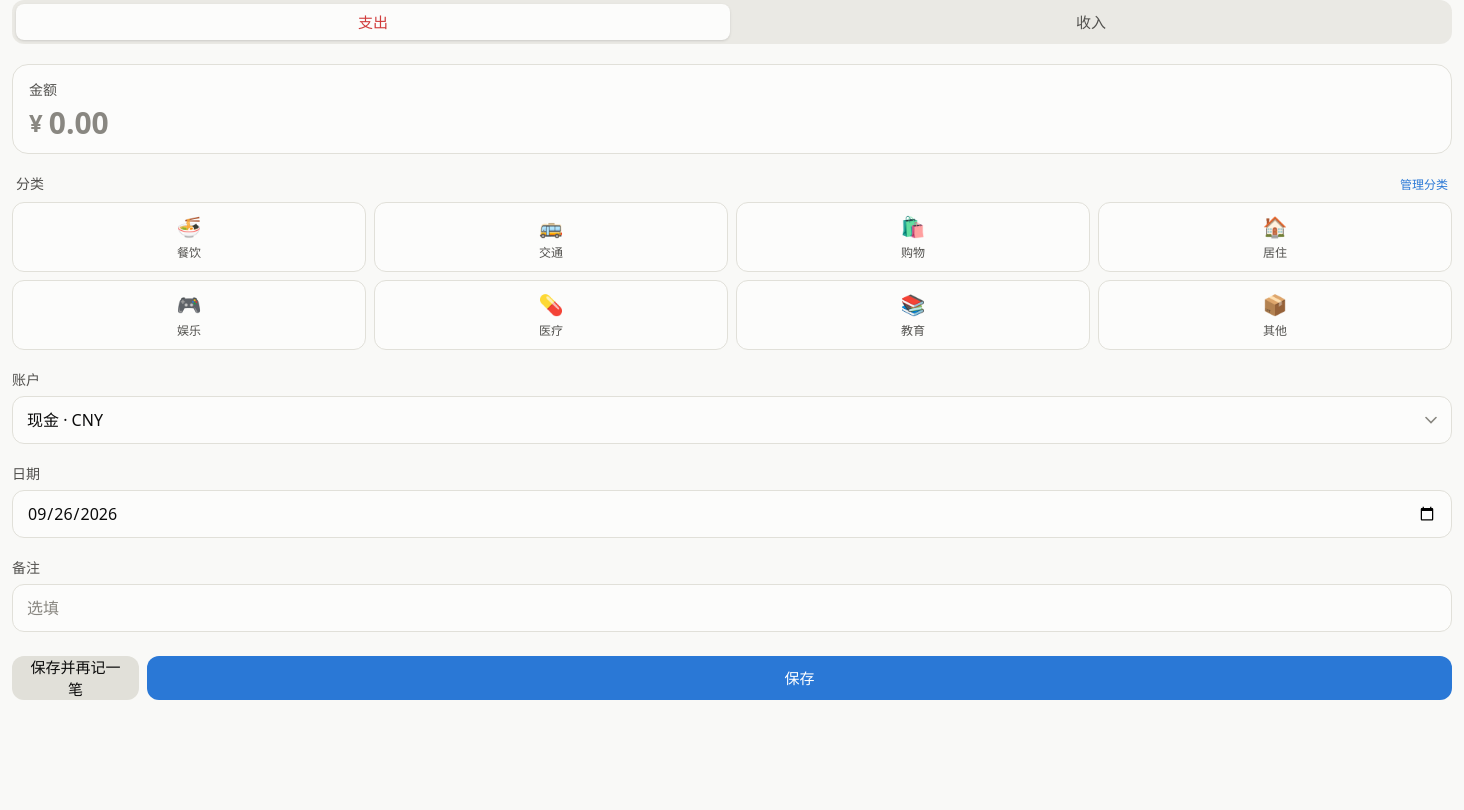
记一笔 › 金额格式非法时提示，失焦即校验
Type "1.234" into the field with id "tx-amount" at (742, 123), box [49,105,1435,141]
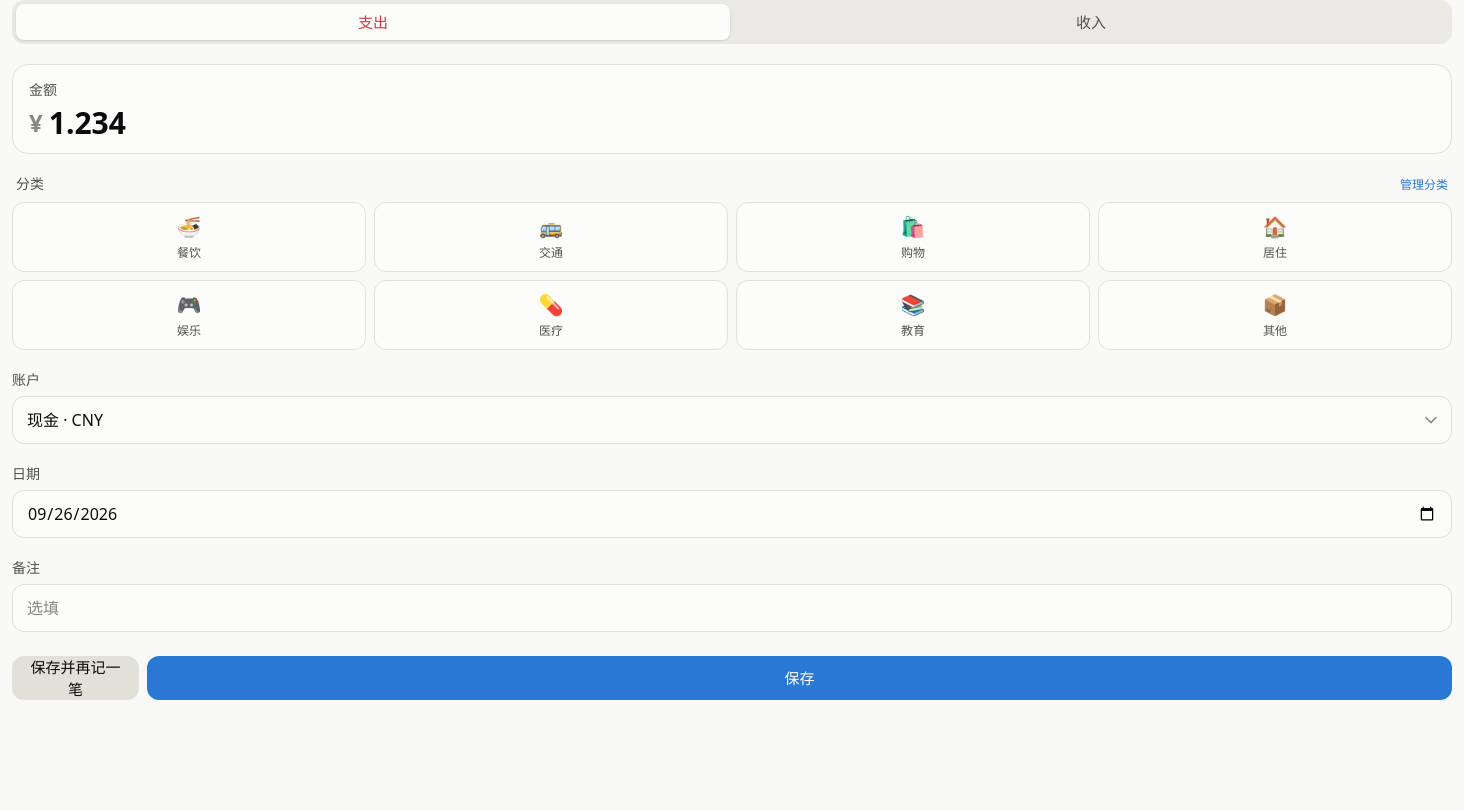
Leave the field with id "tx-amount", box [49,105,1435,141]
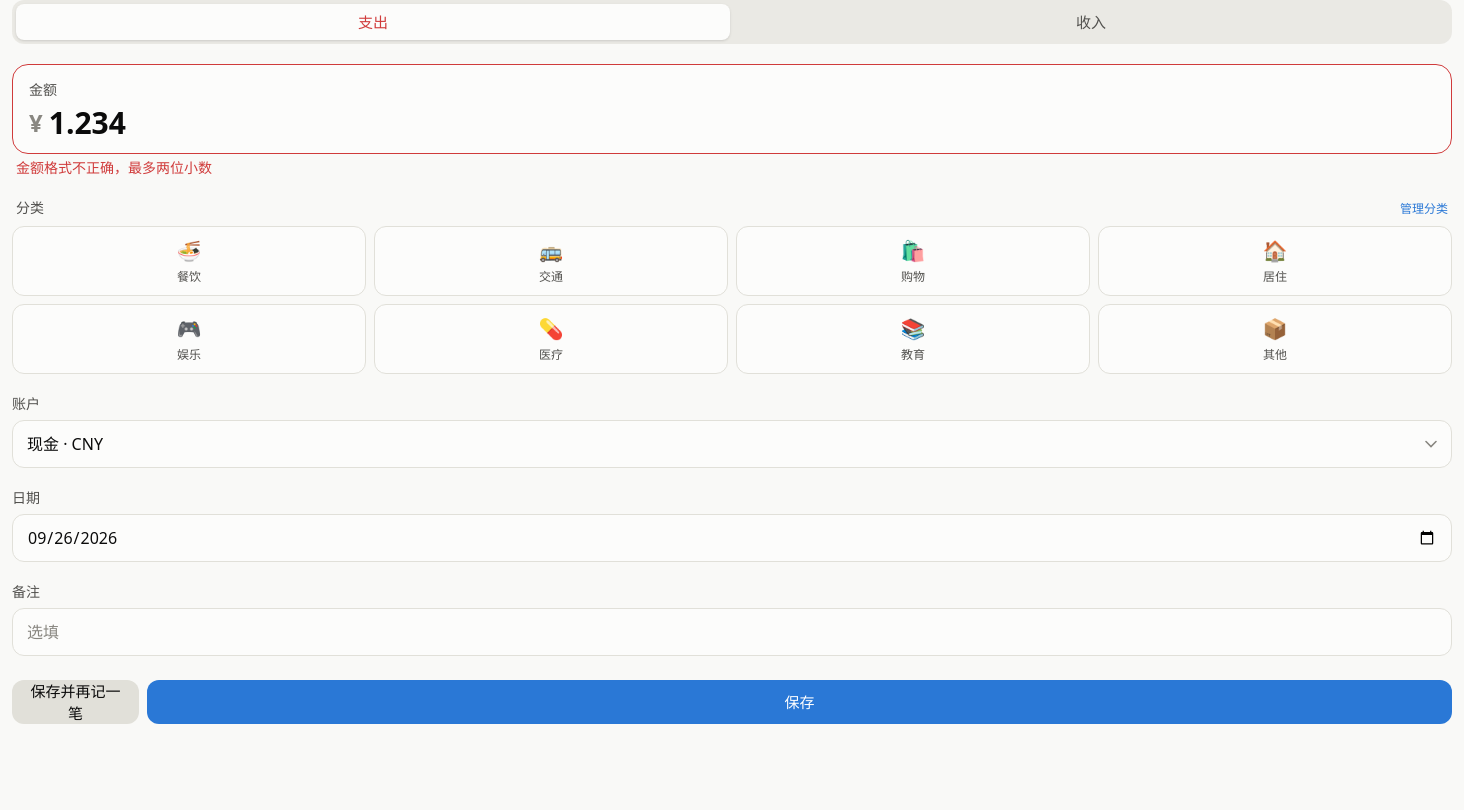
Expected: the text "金额格式不正确，最多两位小数" is shown, [16,158,212,177]
